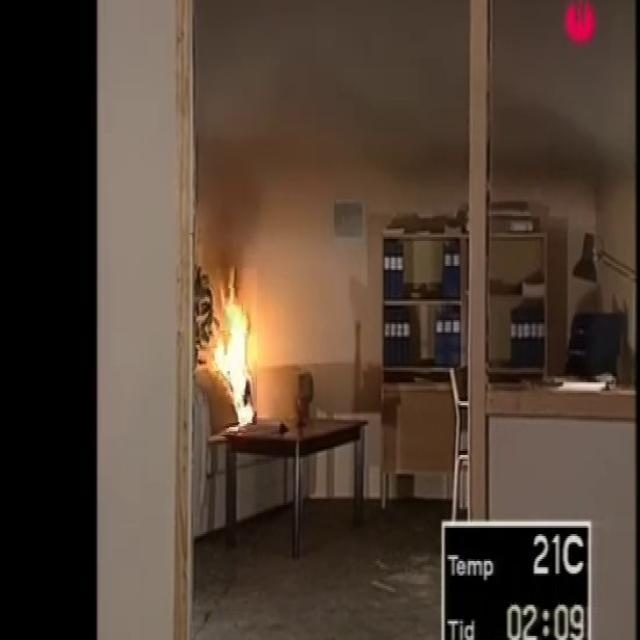fire: (205, 266, 268, 425)
